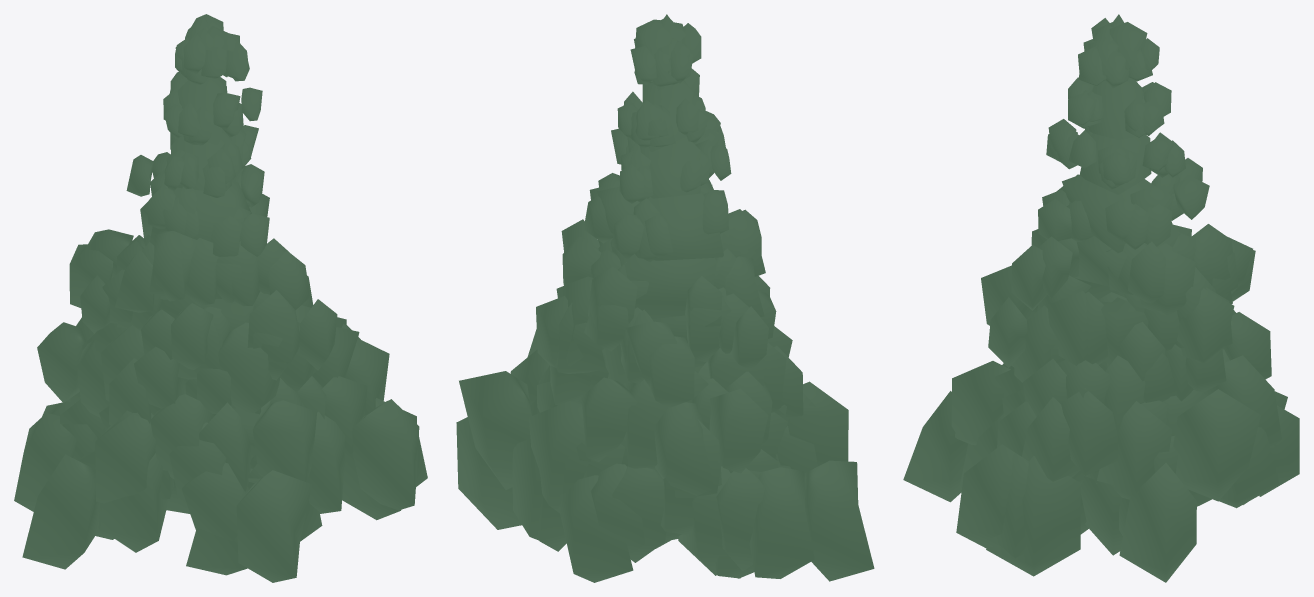
Rendered from Blender_RMJuniper_1_Far.glb.
The picture shows the model from 3 angles, left to right: view 1: azimuth 30°, elevation 25°; view 2: azimuth 150°, elevation 25°; view 3: azimuth 270°, elevation 25°; orthographic projection. The views are drawn at different scales.
Visible parts, largest first — view 1: Blender_RMJuniper_1_Far; view 2: Blender_RMJuniper_1_Far; view 3: Blender_RMJuniper_1_Far.
Boxes of the visible parts, x1=… form: Blender_RMJuniper_1_Far: x1=14, y1=14, x2=427, y2=582; Blender_RMJuniper_1_Far: x1=456, y1=14, x2=874, y2=582; Blender_RMJuniper_1_Far: x1=903, y1=14, x2=1299, y2=582.
Size of the model in its own units: 4.74 by 6.34 by 4.5.
